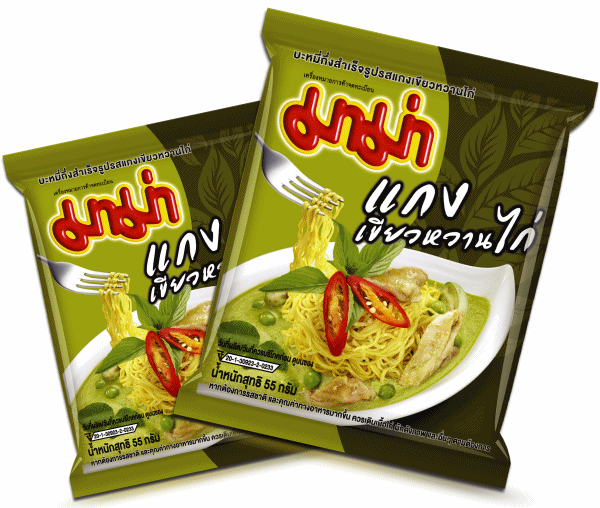Snack: (172, 5, 600, 495)
